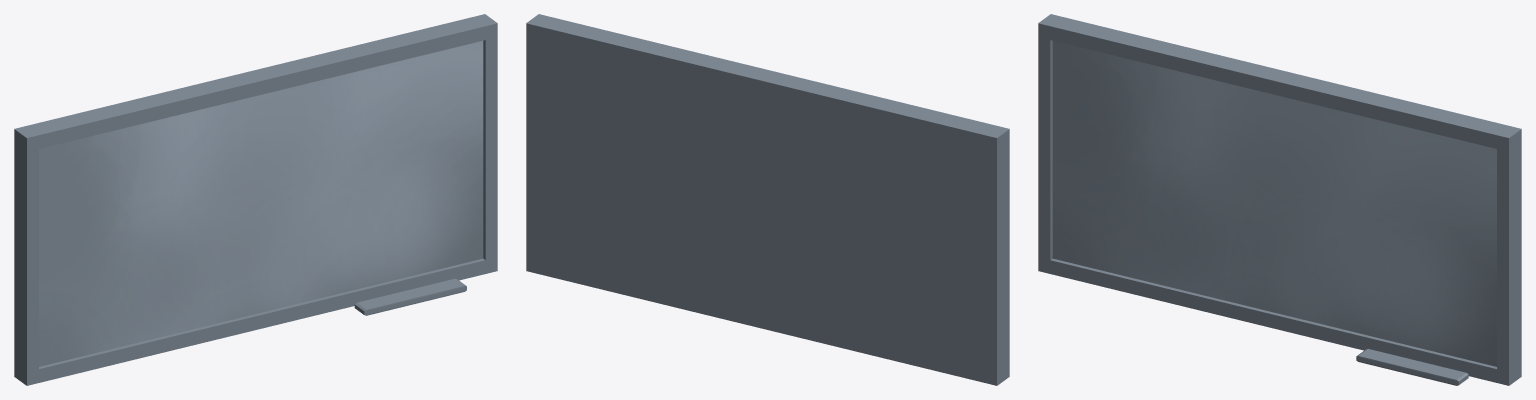
File: Whiteboard (clean).fbx
3 views of the same model, side by side, from view 1: azimuth 30°, elevation 25°; view 2: azimuth 150°, elevation 25°; view 3: azimuth 330°, elevation 25° (orthographic).
Visible parts, largest first — view 1: Cube; view 2: Cube; view 3: Cube.
Boxes of the visible parts, <box> form: Cube: <box>14,14,497,385</box>; Cube: <box>526,14,1009,385</box>; Cube: <box>1038,14,1521,385</box>.
Size of the model in its own units: 1193 by 607 by 98.87.
Materials: 1 (1 with a texture image).
